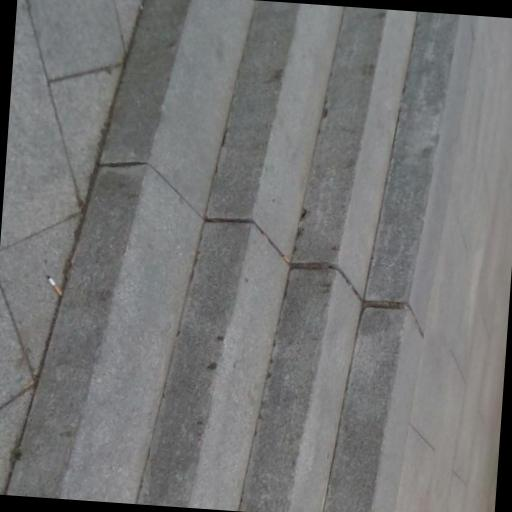stairs: (7, 0, 472, 511)
